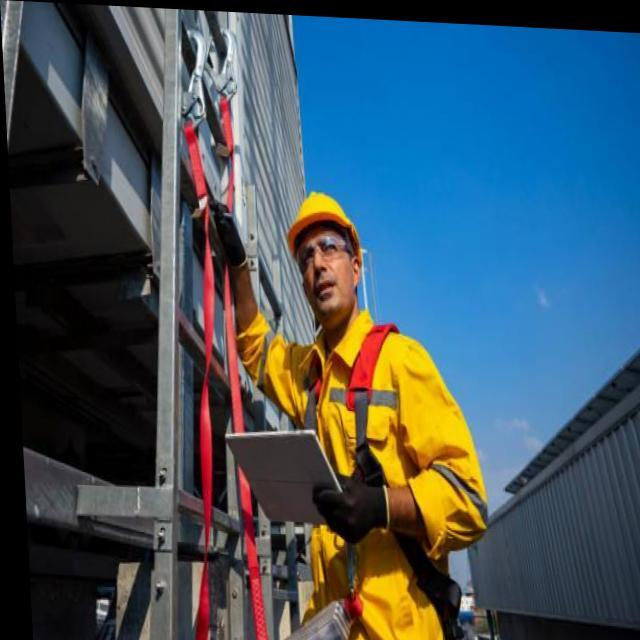belt: (290, 306, 464, 640)
